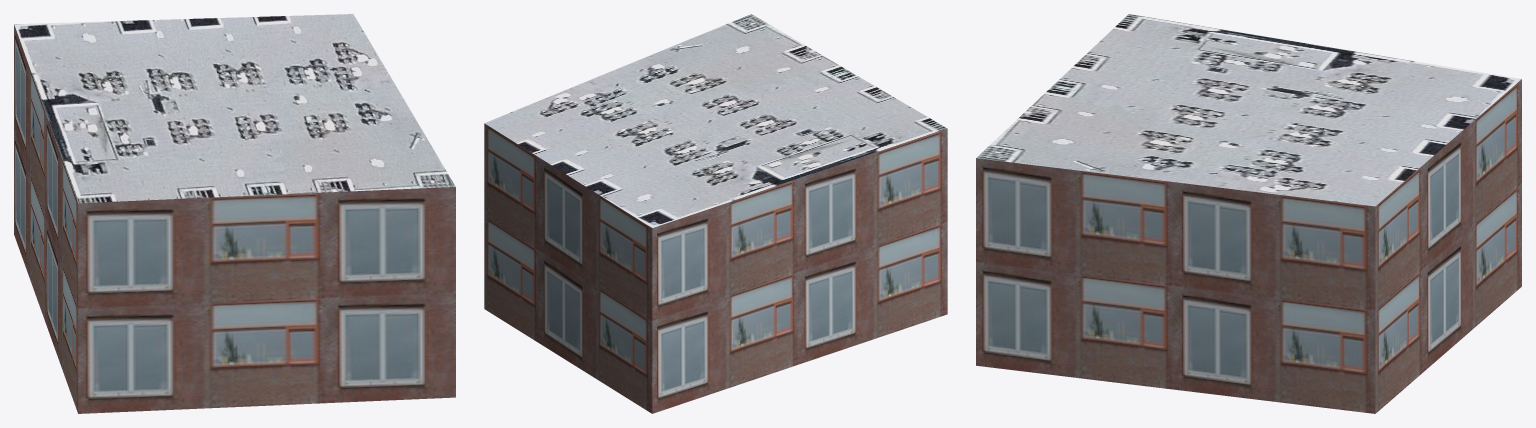
The model's file is ResTex__3015.fbx.
3 renders of one model, left to right at view 1: azimuth 30°, elevation 25°; view 2: azimuth 150°, elevation 25°; view 3: azimuth 270°, elevation 25°, orthographic. The views are drawn at different scales.
Visible parts, largest first — view 1: CityEngineMaterial_19_m, CityEngineMaterial_2_m; view 2: CityEngineMaterial_19_m, CityEngineMaterial_2_m; view 3: CityEngineMaterial_19_m, CityEngineMaterial_2_m.
Part boxes in pixels (left/top/right/bottom): CityEngineMaterial_19_m: left=14, top=24, right=455, bottom=413; CityEngineMaterial_2_m: left=14, top=14, right=455, bottom=203; CityEngineMaterial_19_m: left=484, top=123, right=947, bottom=413; CityEngineMaterial_2_m: left=484, top=14, right=946, bottom=227; CityEngineMaterial_19_m: left=976, top=79, right=1521, bottom=413; CityEngineMaterial_2_m: left=976, top=14, right=1521, bottom=206.
Bounding box in the file's own units: 11.93 × 6 × 14.31.
Materials: 2 (2 with a texture image).
